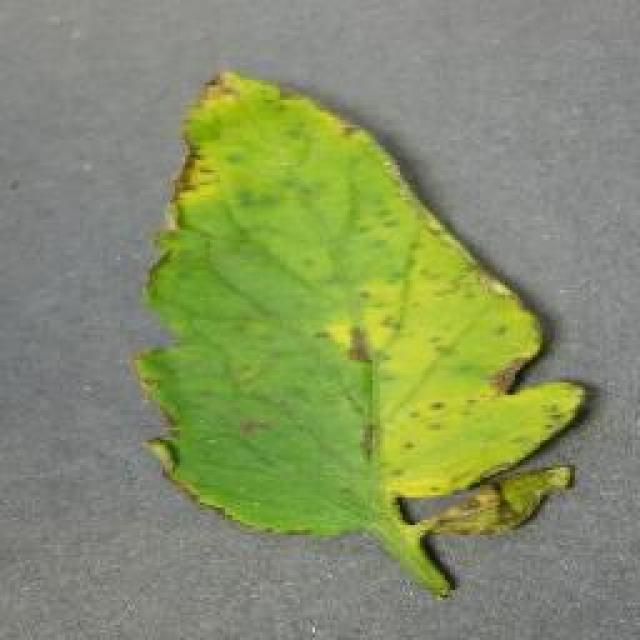Tomato___Bacterial_spot: (124, 70, 599, 614)
